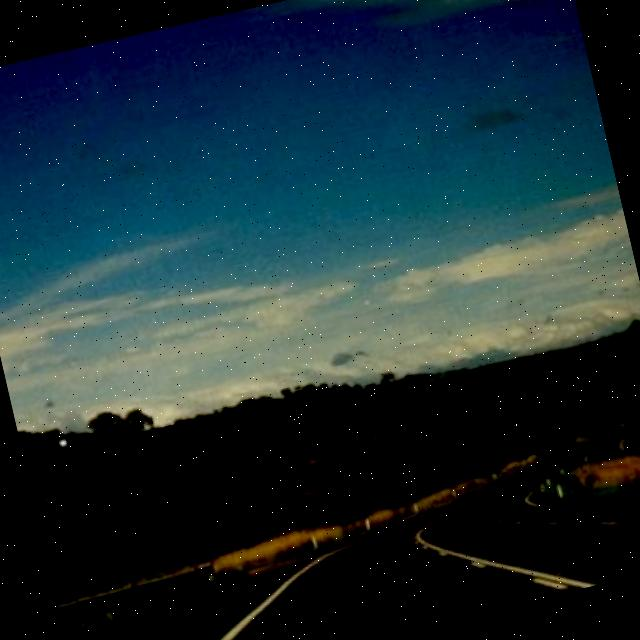Sc: (1, 42, 640, 450)
